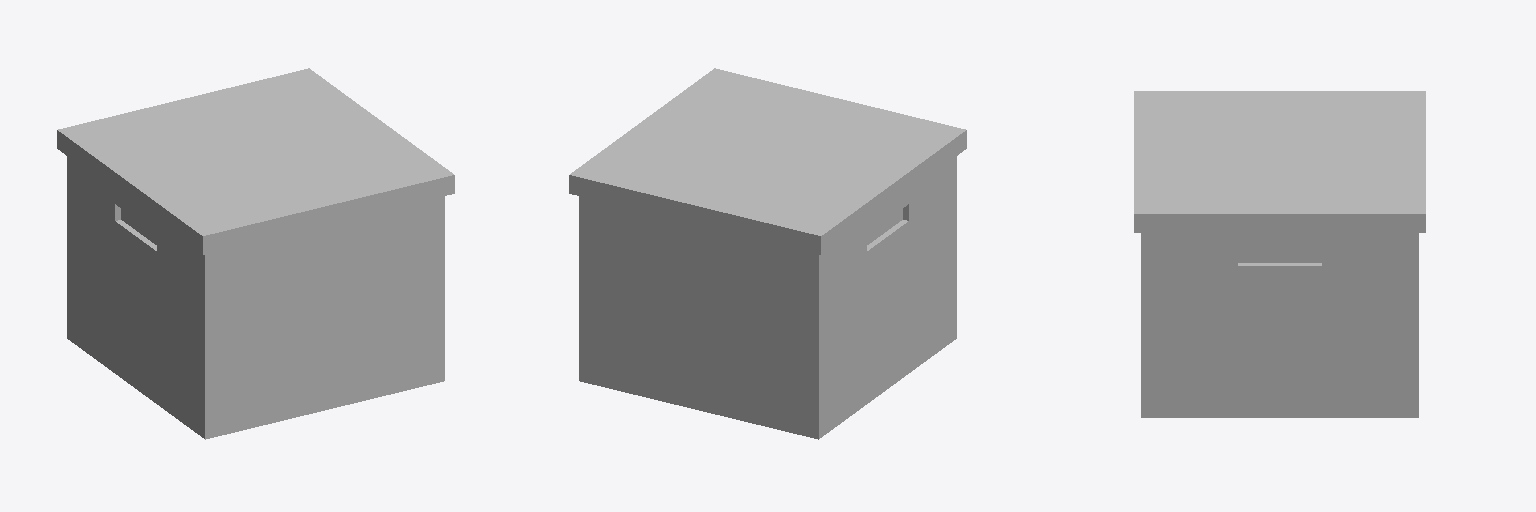
The model's file is spawner_box_standart_1.obj.
3 views of the same model, side by side, from view 1: azimuth 30°, elevation 25°; view 2: azimuth 150°, elevation 25°; view 3: azimuth 270°, elevation 25° (orthographic).
Parts seen in each view (by area): view 1: Plane; view 2: Plane; view 3: Plane.
Part boxes in pixels (x1,y1,x2,y2): Plane: (57,68,454,439); Plane: (569,68,966,439); Plane: (1134,91,1425,417).
Size of the model in its own units: 2.1 by 1.65 by 2.1.